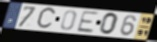0: (98, 13, 121, 36), (59, 10, 78, 32)
6: (119, 14, 138, 37)
7: (18, 6, 38, 28)
C: (35, 6, 58, 31)
E: (75, 10, 100, 34)
